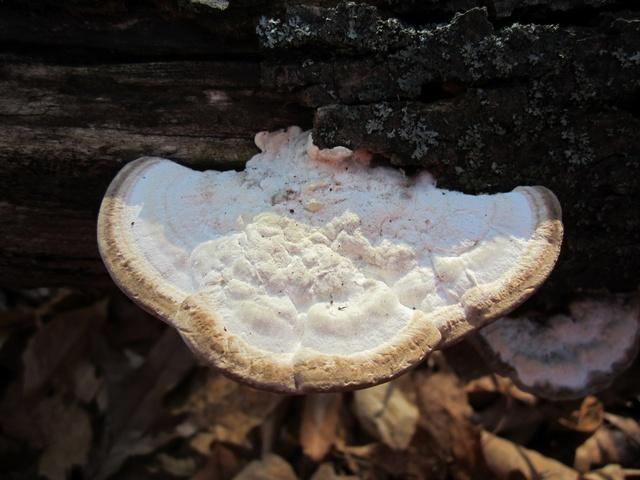Non-edible Mushroom: (94, 123, 565, 395)
